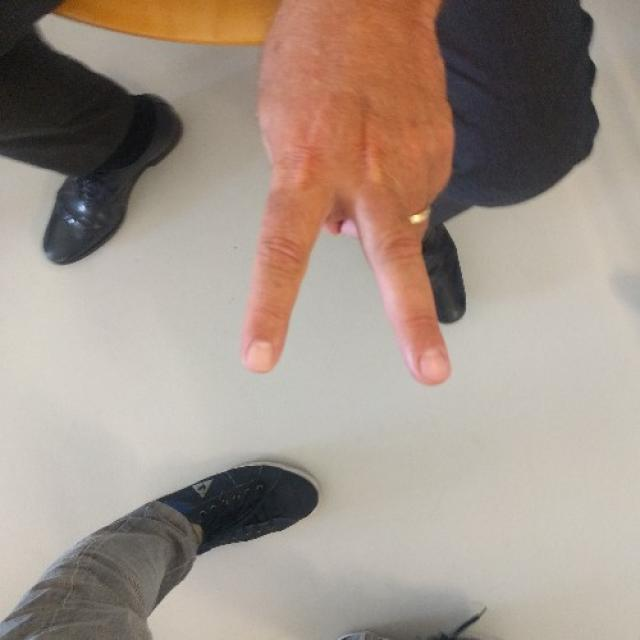scissors: (238, 37, 466, 384)
